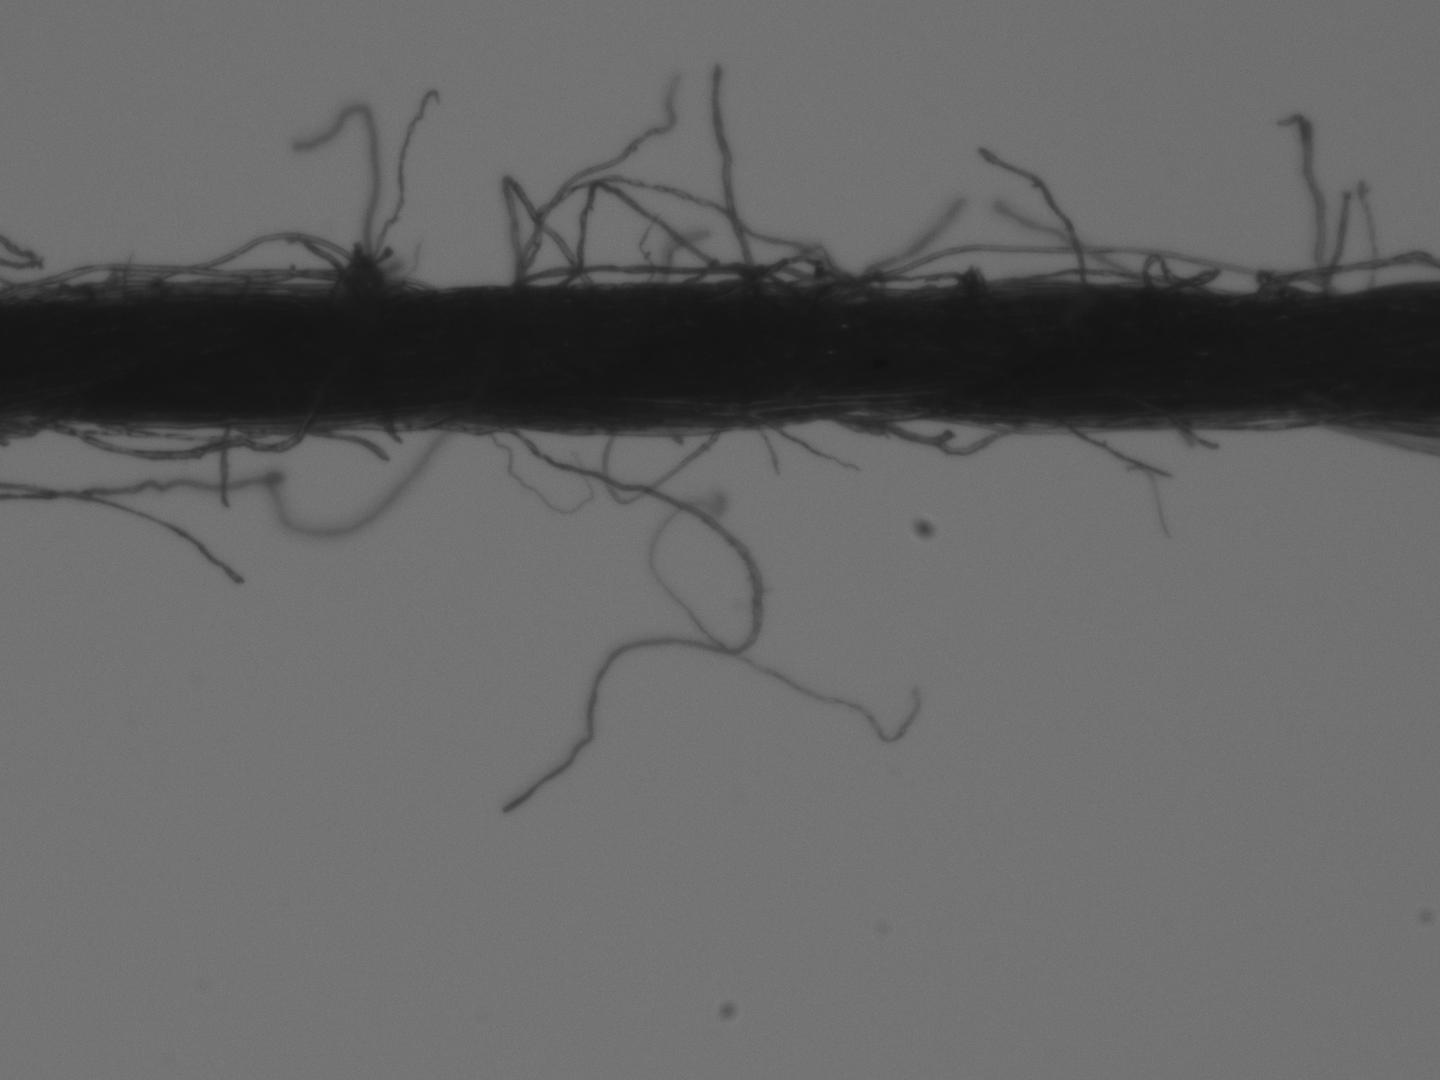loop_fiber: (574, 183, 749, 279), (48, 408, 314, 466), (145, 233, 361, 295), (745, 259, 988, 295), (513, 179, 586, 292), (838, 411, 1010, 456), (1143, 253, 1220, 299), (324, 245, 395, 292), (220, 419, 235, 520)
protruding_fiber: (500, 425, 761, 824), (976, 143, 1090, 292), (711, 60, 772, 289), (298, 107, 382, 271), (1060, 423, 1175, 482)
